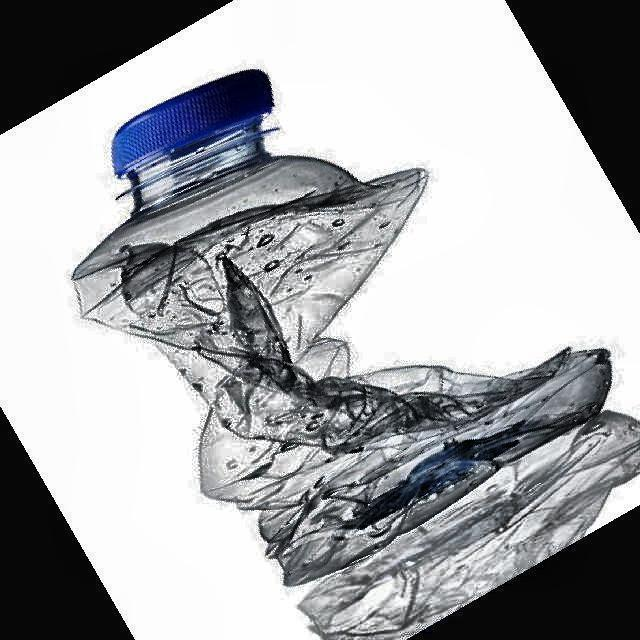plastic: (72, 70, 611, 585)
